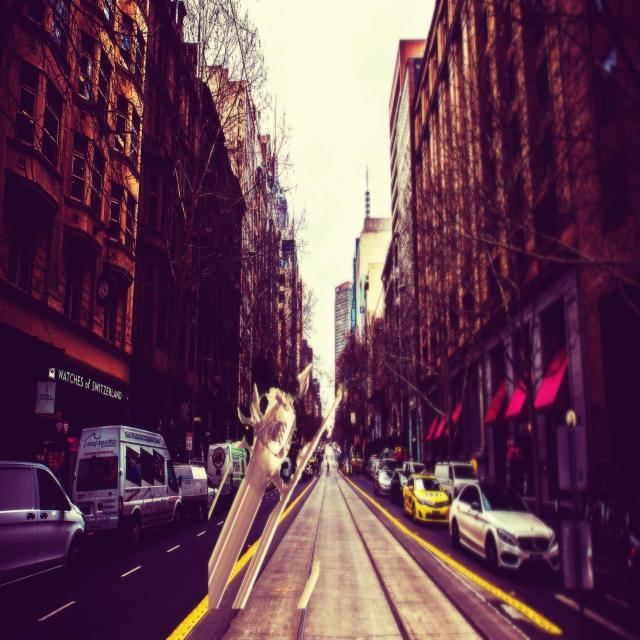airplane: (209, 359, 339, 608)
